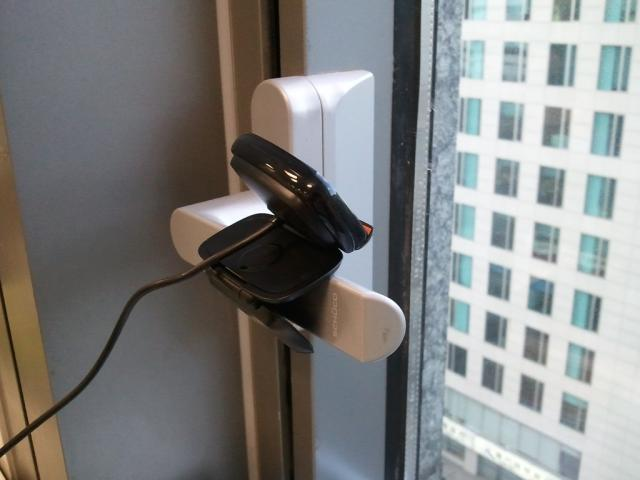Door-handle: (170, 70, 407, 364)
